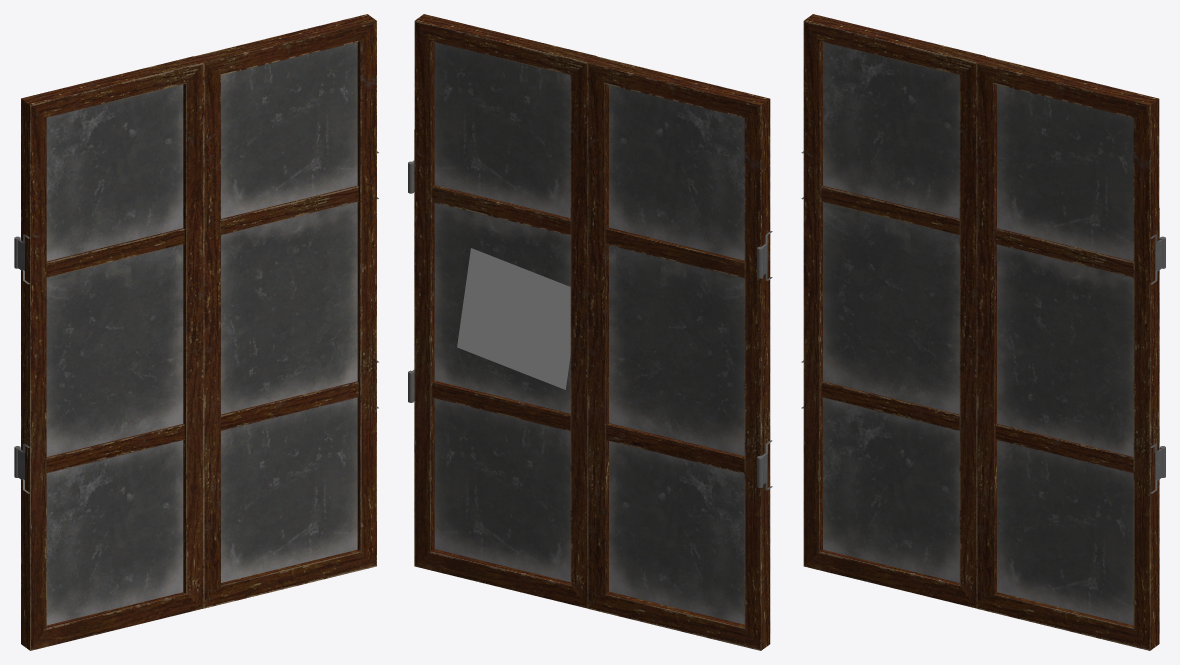
File: ZombieWindow2.fbx
3 renders of one model, left to right at view 1: azimuth 30°, elevation 25°; view 2: azimuth 150°, elevation 25°; view 3: azimuth 330°, elevation 25°, orthographic.
Visible parts, largest first — view 1: LOD_1_Group_3_Sub_1__sm40_048_ZombieWindow01B_A_Mat, LOD_1_Group_2_Sub_1__sm40_048_ZombieWindow01B_B_Mat; view 2: LOD_1_Group_3_Sub_1__sm40_048_ZombieWindow01B_A_Mat, LOD_1_Group_2_Sub_1__sm40_048_ZombieWindow01B_B_Mat, LOD_1_Group_1_Sub_1__sm40_048_ZombieWindow01B_C_Mat__Env_Alp; view 3: LOD_1_Group_3_Sub_1__sm40_048_ZombieWindow01B_A_Mat, LOD_1_Group_2_Sub_1__sm40_048_ZombieWindow01B_B_Mat.
Boxes of the visible parts, bbox=[...] form: LOD_1_Group_3_Sub_1__sm40_048_ZombieWindow01B_A_Mat: bbox=[46, 42, 357, 625]; LOD_1_Group_2_Sub_1__sm40_048_ZombieWindow01B_B_Mat: bbox=[14, 14, 378, 650]; LOD_1_Group_3_Sub_1__sm40_048_ZombieWindow01B_A_Mat: bbox=[434, 42, 744, 624]; LOD_1_Group_2_Sub_1__sm40_048_ZombieWindow01B_B_Mat: bbox=[408, 14, 772, 650]; LOD_1_Group_1_Sub_1__sm40_048_ZombieWindow01B_C_Mat__Env_Alp: bbox=[457, 248, 570, 389]; LOD_1_Group_3_Sub_1__sm40_048_ZombieWindow01B_A_Mat: bbox=[823, 42, 1133, 625]; LOD_1_Group_2_Sub_1__sm40_048_ZombieWindow01B_B_Mat: bbox=[801, 14, 1165, 650].
Size of the model in its own units: 0.9941 by 1.46 by 0.0649.
